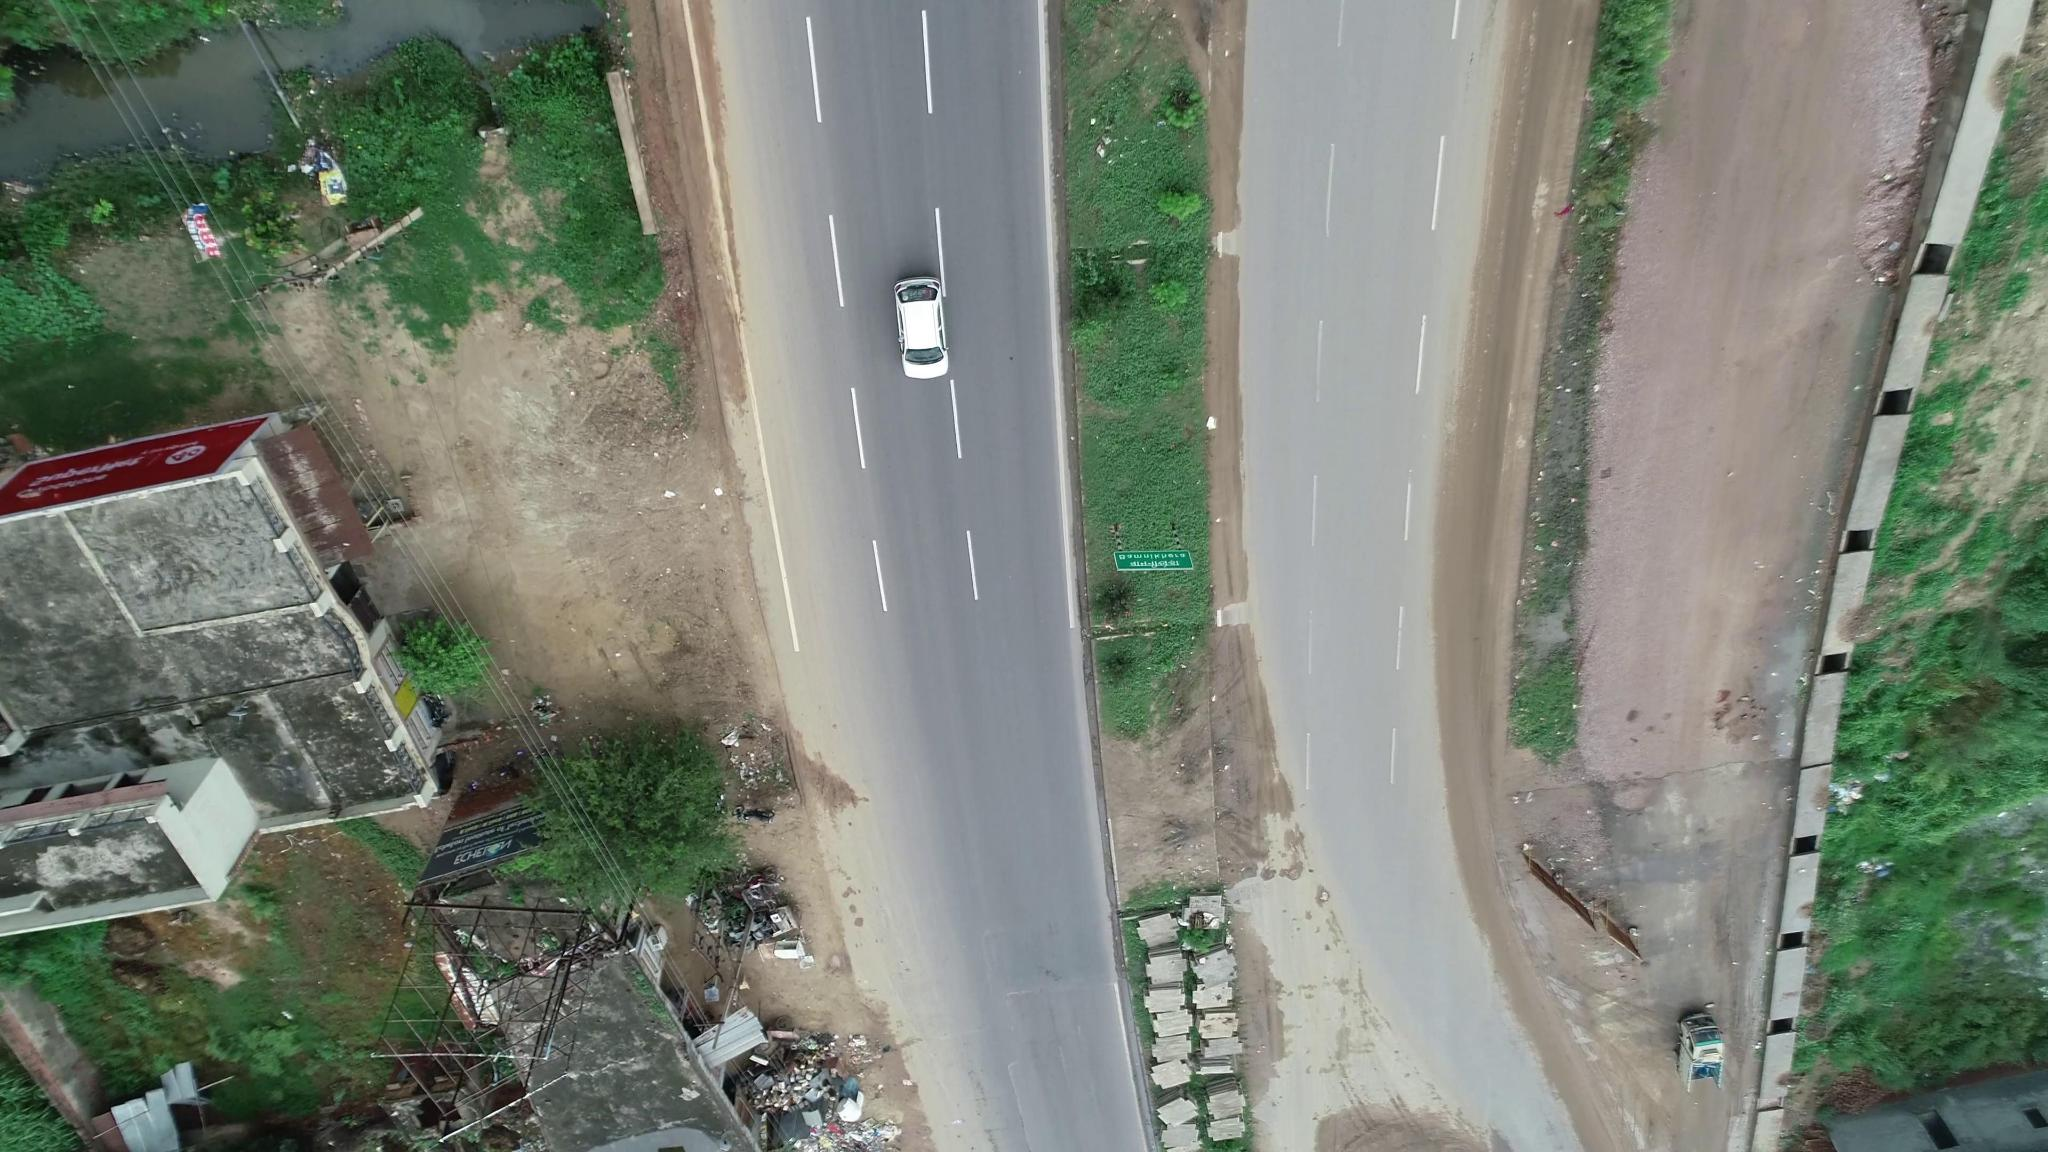Muddy_road: (1421, 293, 1535, 647), (1471, 14, 1584, 287), (1221, 613, 1308, 881), (1428, 648, 1492, 904)
